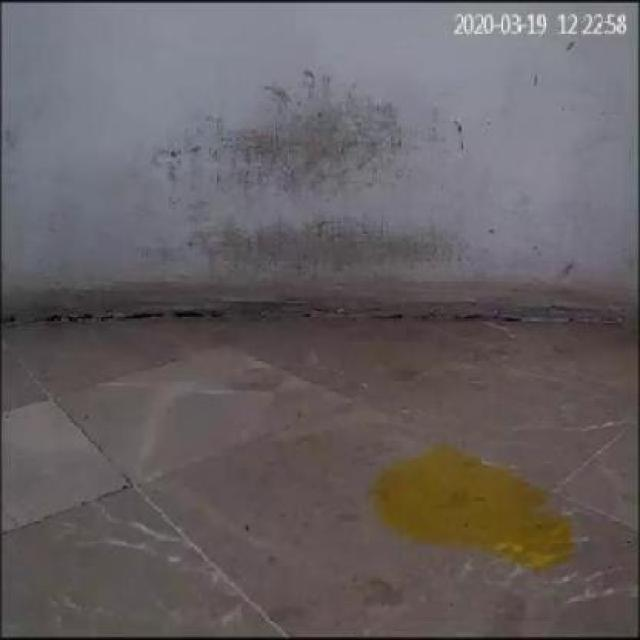spillage: (372, 445, 574, 570)
